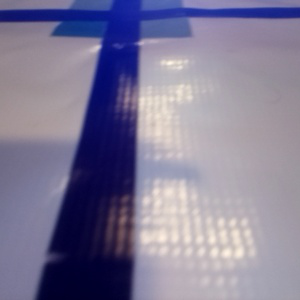bottom_left: (52, 10, 141, 37)
bottom_right: (106, 10, 192, 37)
top_left: (69, 1, 138, 20)
top_right: (112, 1, 183, 16)
